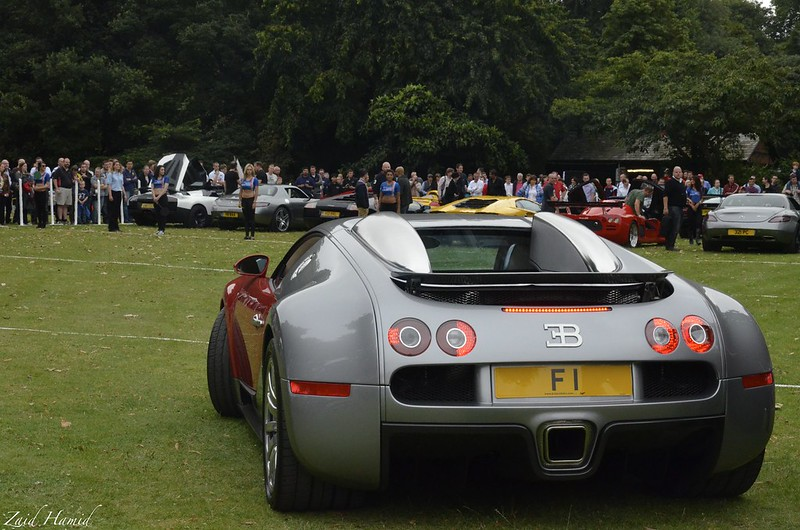number_plate: (491, 358, 651, 409), (726, 224, 760, 237), (139, 198, 156, 215), (217, 209, 239, 221), (322, 209, 339, 217)
